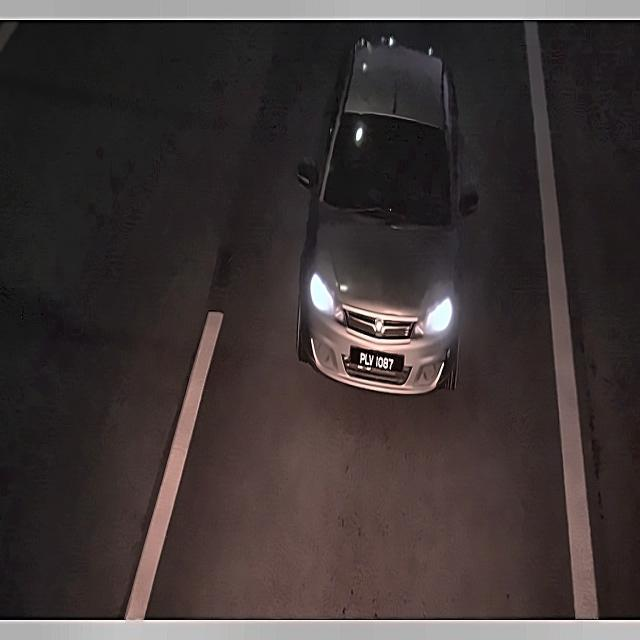car: (346, 341, 408, 379)
